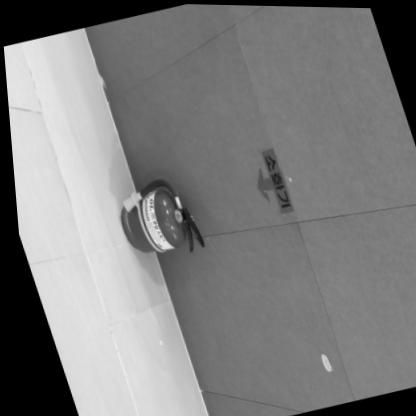FE: (106, 173, 203, 264)
